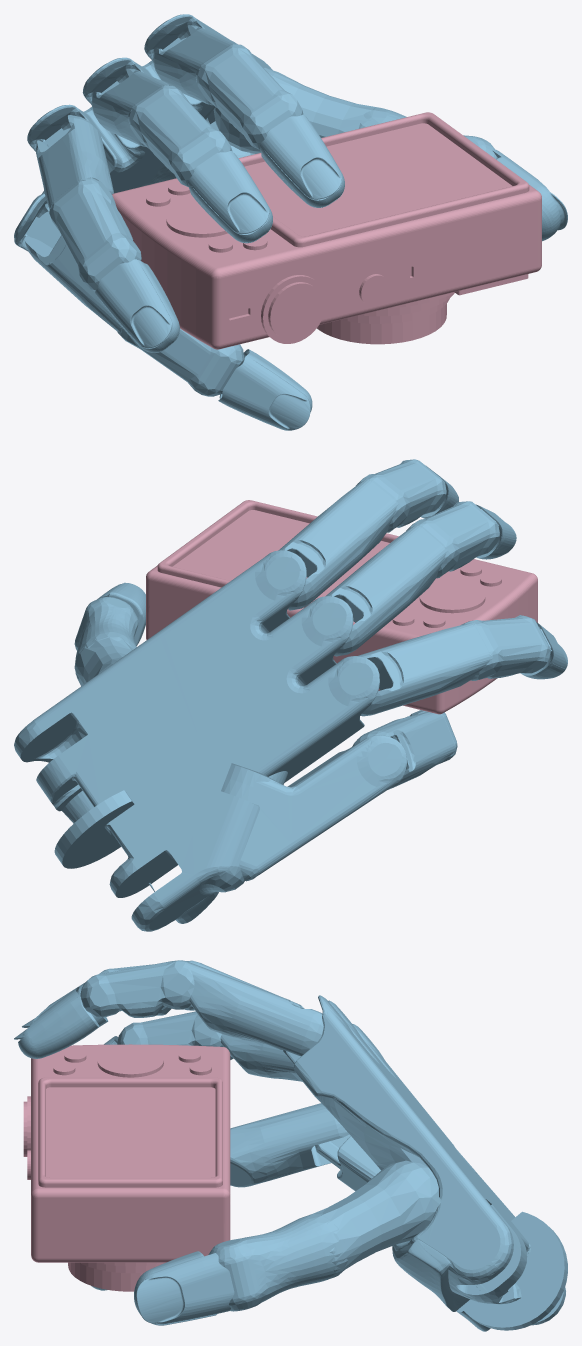
3 views of the same model, one above another, from view 1: azimuth 30°, elevation 25°; view 2: azimuth 150°, elevation 25°; view 3: azimuth 270°, elevation 25° (orthographic). The views are drawn at different scales.
Parts seen in each view (by area): view 1: world, camera.stl; view 2: world, camera.stl; view 3: world, camera.stl.
Part boxes in pixels (x1,y1,x2,y2): world: (14,14,567,430); camera.stl: (112,112,541,349); world: (14,459,567,931); camera.stl: (146,500,537,714); world: (14,960,567,1331); camera.stl: (23,1044,230,1291).
Bounding box in the file's own units: 0.1651 × 0.1254 × 0.18.
